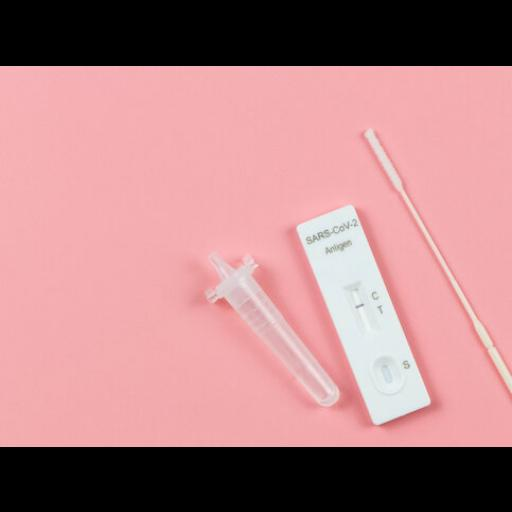Neg: (296, 204, 433, 425)
